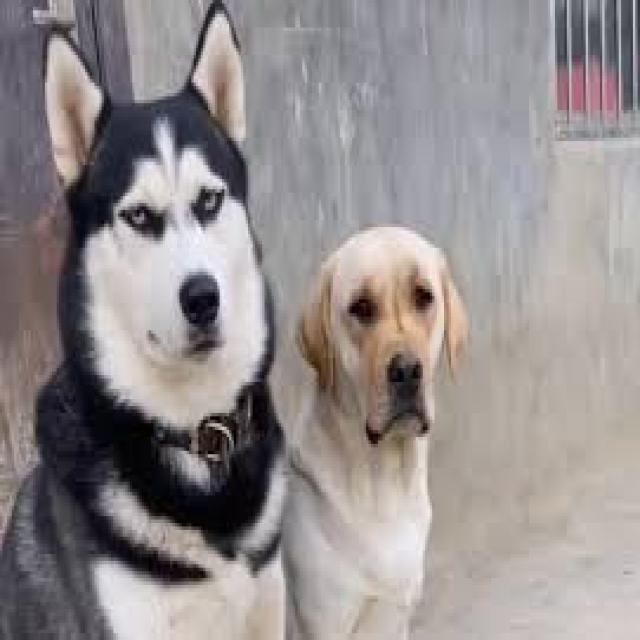Abrador: (45, 3, 277, 484)
